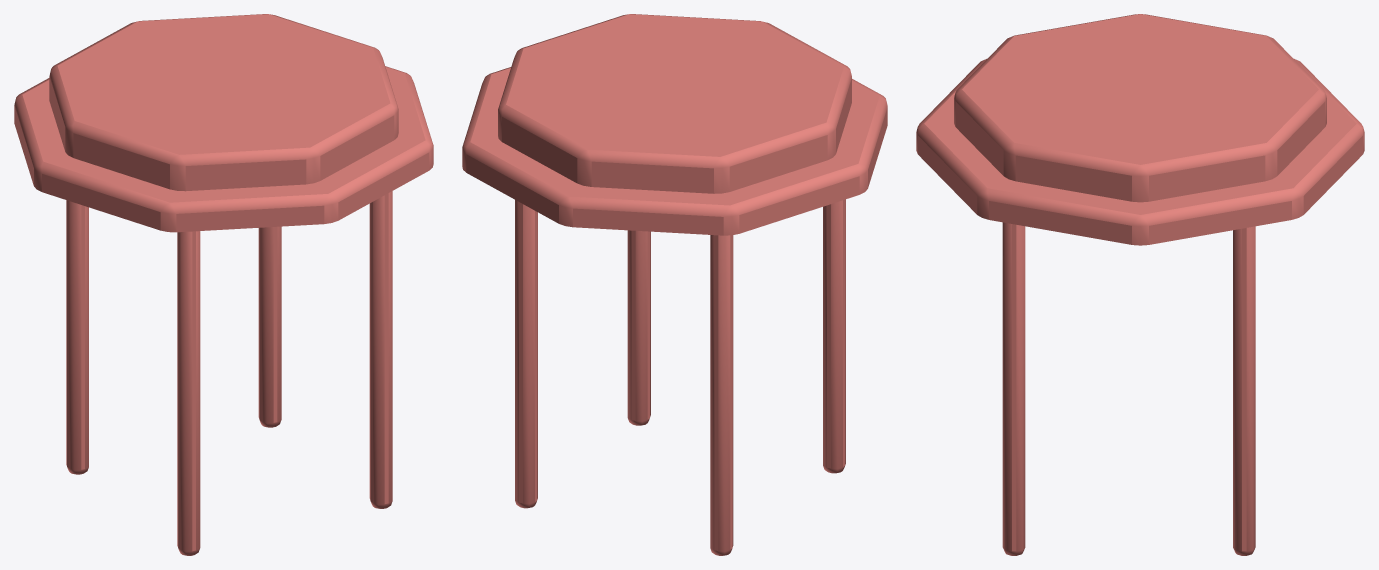
File: GheDau_Nhua.glb
3 views of the same model, side by side, from view 1: azimuth 30°, elevation 25°; view 2: azimuth 150°, elevation 25°; view 3: azimuth 270°, elevation 25° (orthographic). The views are drawn at different scales.
Visible parts, largest first — view 1: geometry_0; view 2: geometry_0; view 3: geometry_0.
Part boxes in pixels (x1,y1,x2,y2): geometry_0: (14, 14, 433, 555); geometry_0: (462, 14, 887, 555); geometry_0: (916, 14, 1364, 555).
Size of the model in its own units: 0.2973 by 0.305 by 0.2973.
